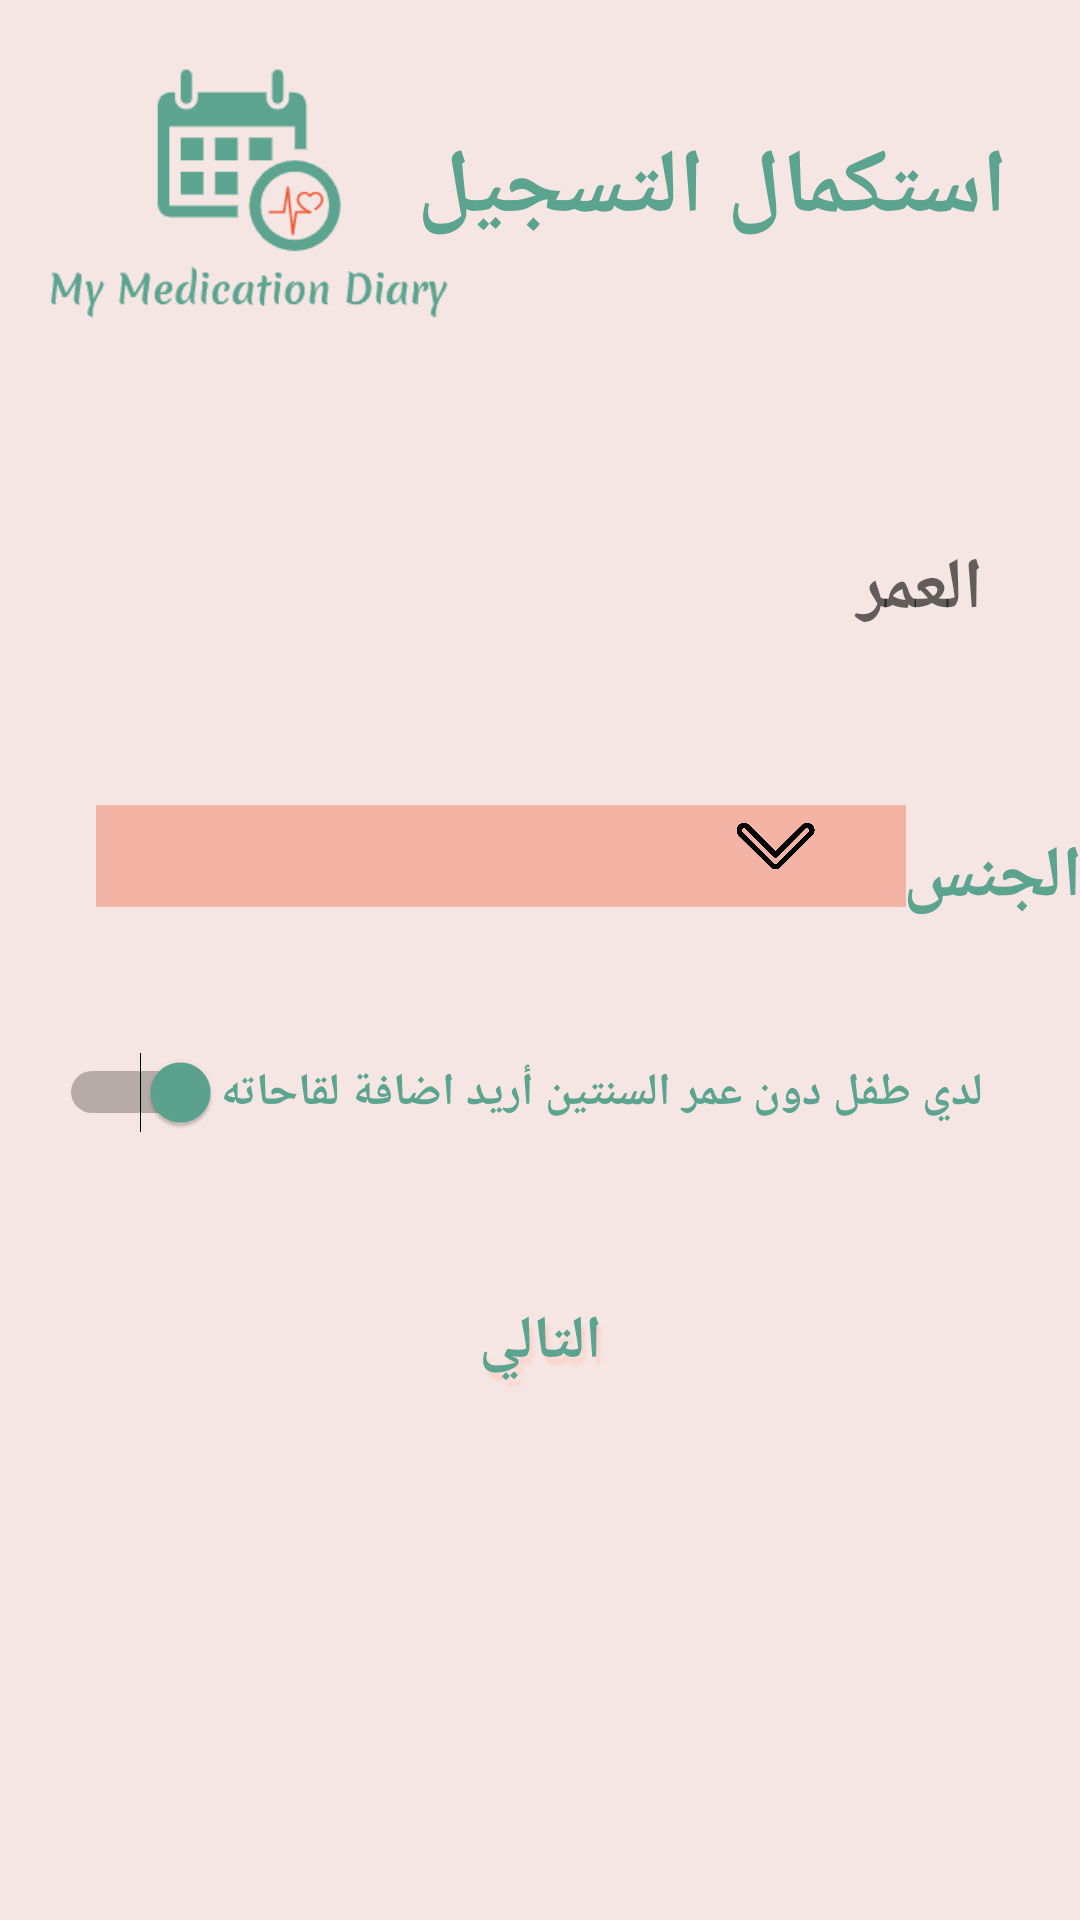

Icon bounding boxes for this 1080 x 1920 phone screenshot, format (x1, y1, x2, y2):
down arrow: (737, 823, 815, 869)
